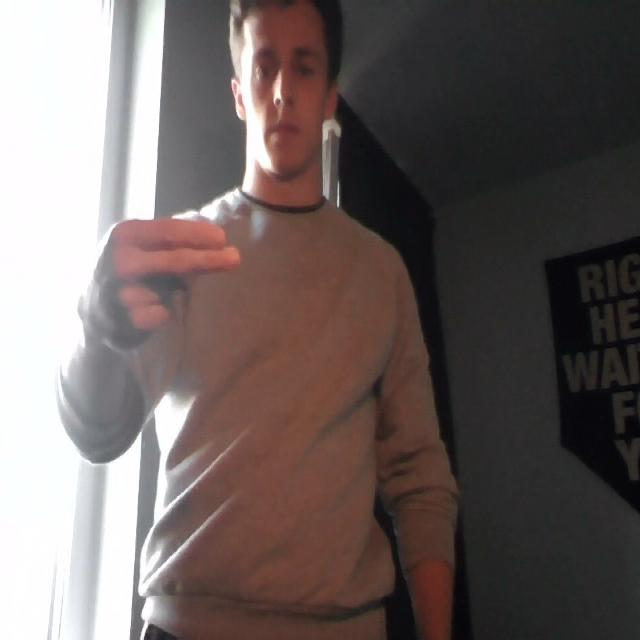right: (80, 192, 260, 372)
